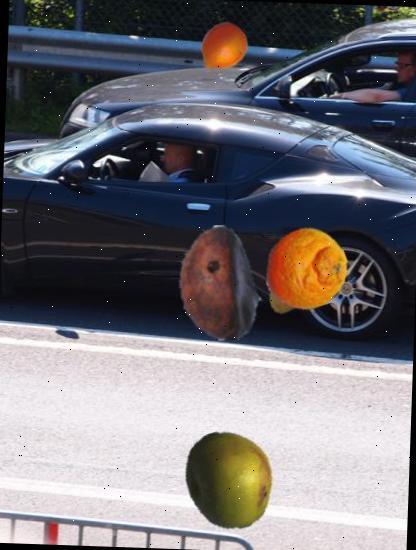Chestnut: (160, 224, 280, 344)
Mandarine: (263, 226, 350, 313)
Pomelo: (178, 428, 282, 532)
Potato: (260, 241, 346, 326)
Tangelo: (196, 21, 250, 74)
